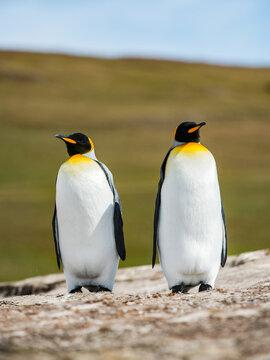king: (31, 118, 150, 321), (163, 103, 243, 310)
